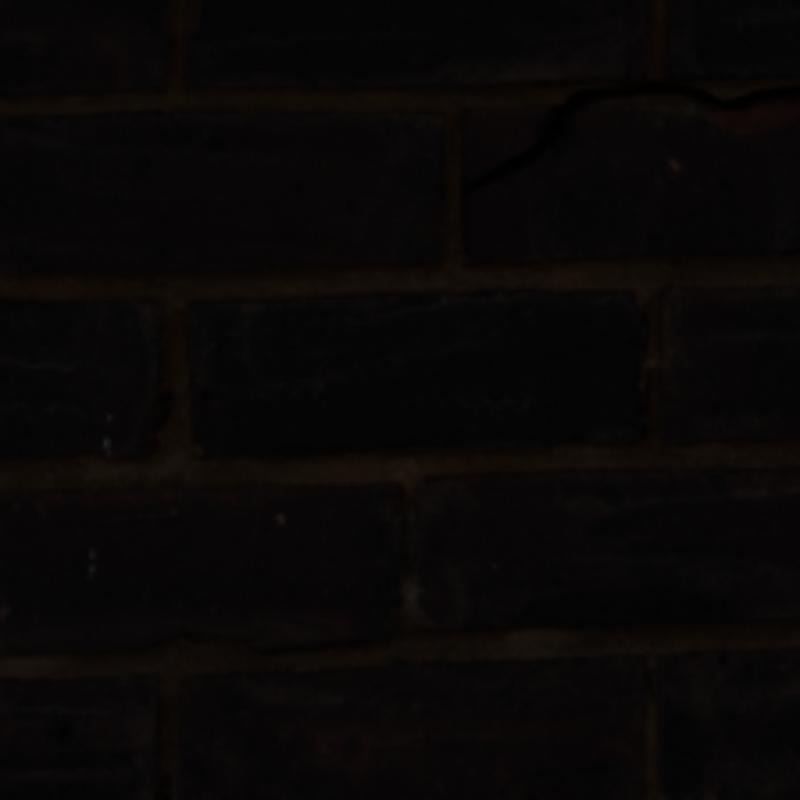pothole: (461, 79, 796, 193)
